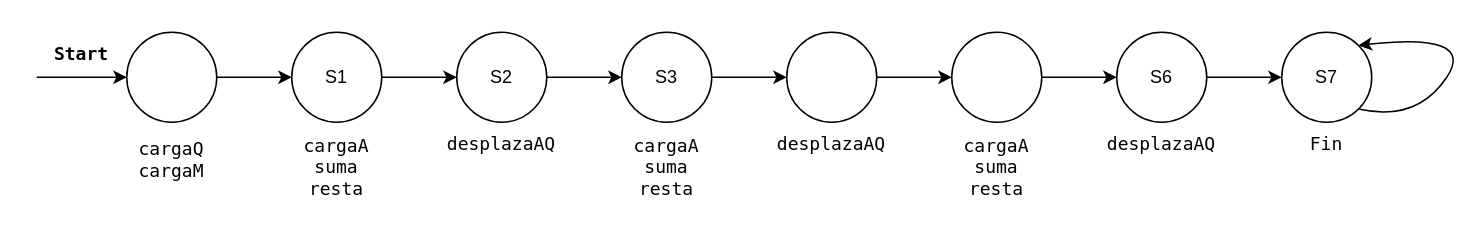
This 1481x225 diagram has some shape labels left out. The box of each missing label's shape, as (x1, y1, x2, y2) in pixels:
S0: (125, 31, 217, 122)
S4: (785, 31, 877, 122)
S5: (950, 31, 1042, 122)
